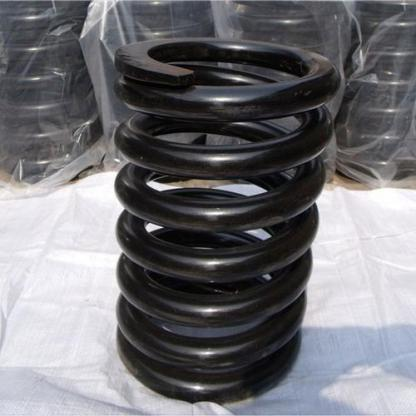FOD: (108, 32, 346, 409)
